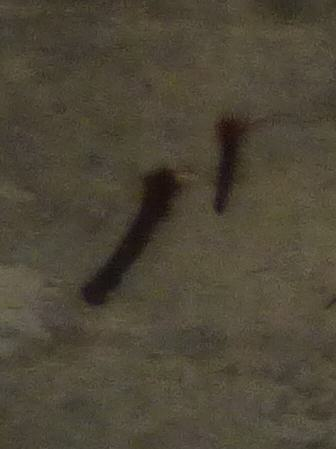Exposed reinforcement: (81, 168, 180, 306), (207, 118, 247, 217)
